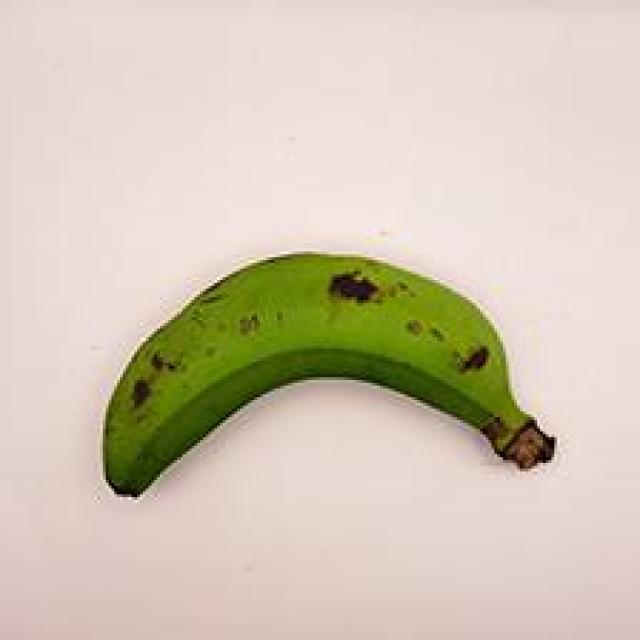Raw: (65, 218, 571, 516)
